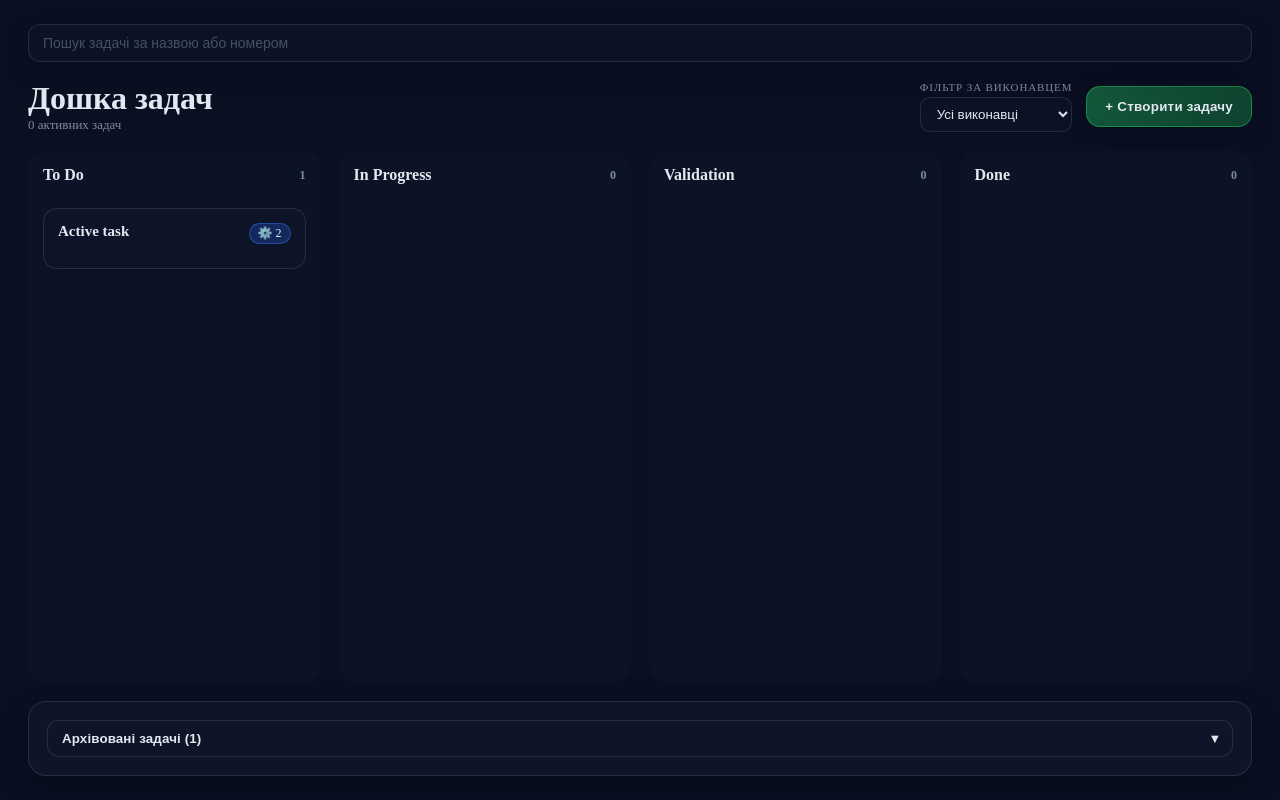
Home › toggles archived section visibility and hides when emptied
Expected: the text "Archived task" is not shown
Click the button "Архівовані задачі (1) ▾".
click(126, 738)  # box x1=47 y1=720 x2=1233 y2=757
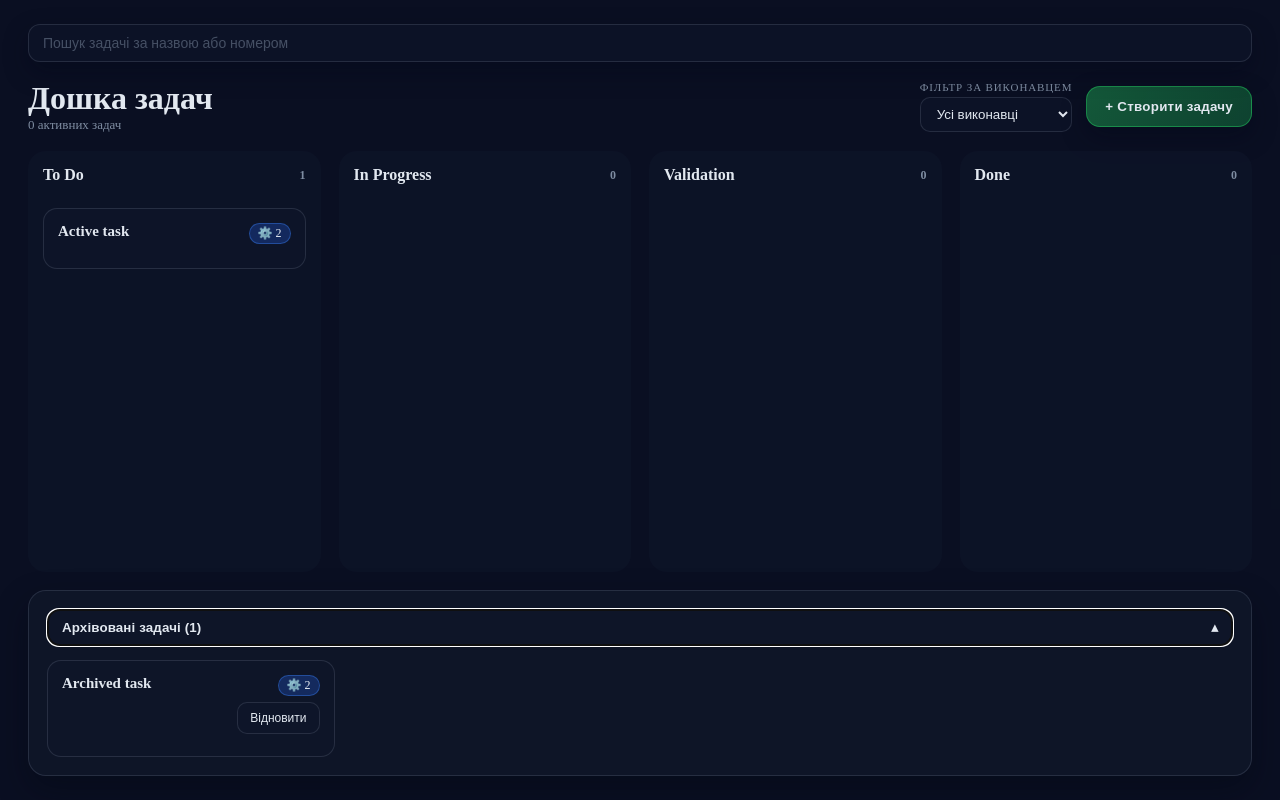
Expected: the text "Archived task" is shown, x1=62 y1=675 x2=151 y2=691
Click the button "Архівовані задачі (1) ▴".
click(126, 628)  # box x1=47 y1=609 x2=1233 y2=646
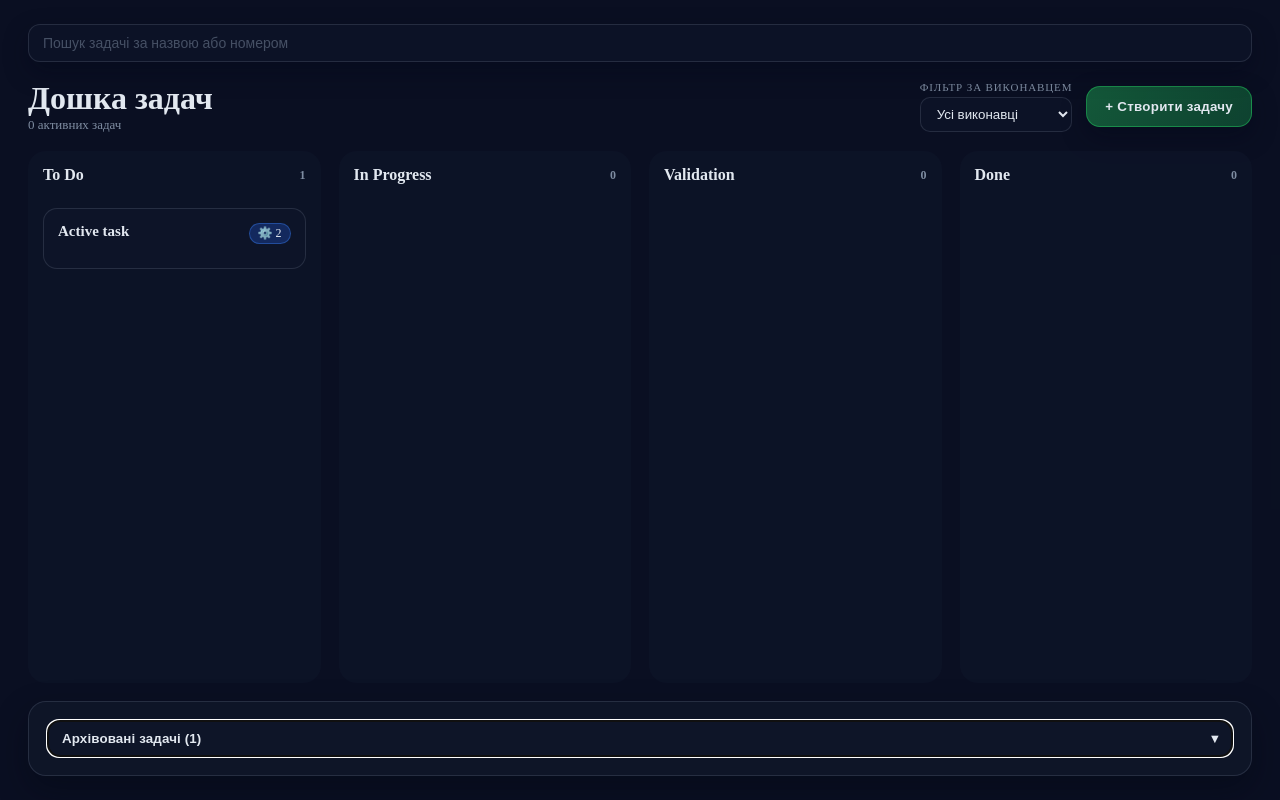
Expected: the text "Archived task" is gone
